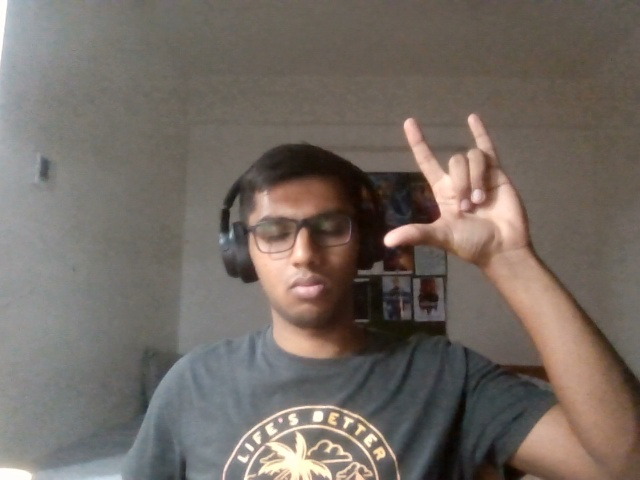iloveyou: (376, 114, 538, 286)
